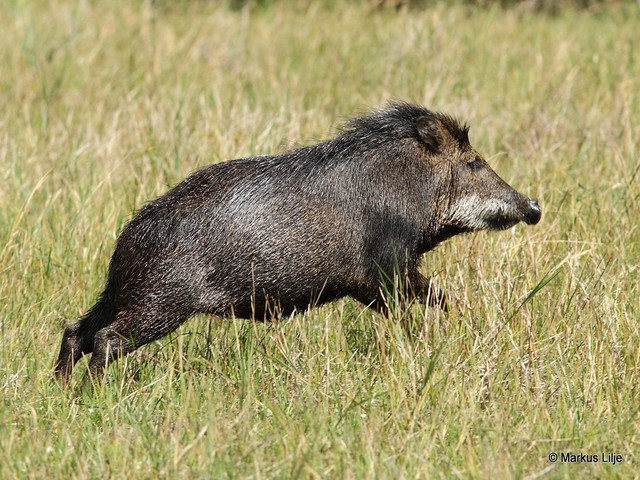Pig: (53, 102, 553, 371)
